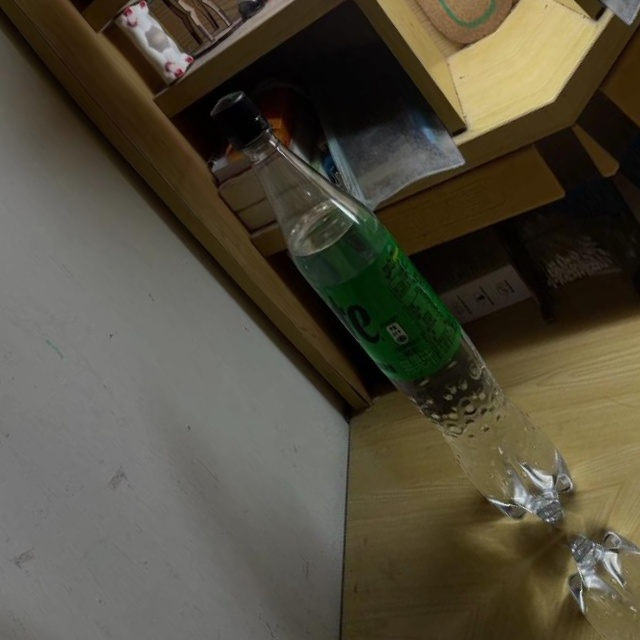Sprite: (182, 73, 599, 545)
